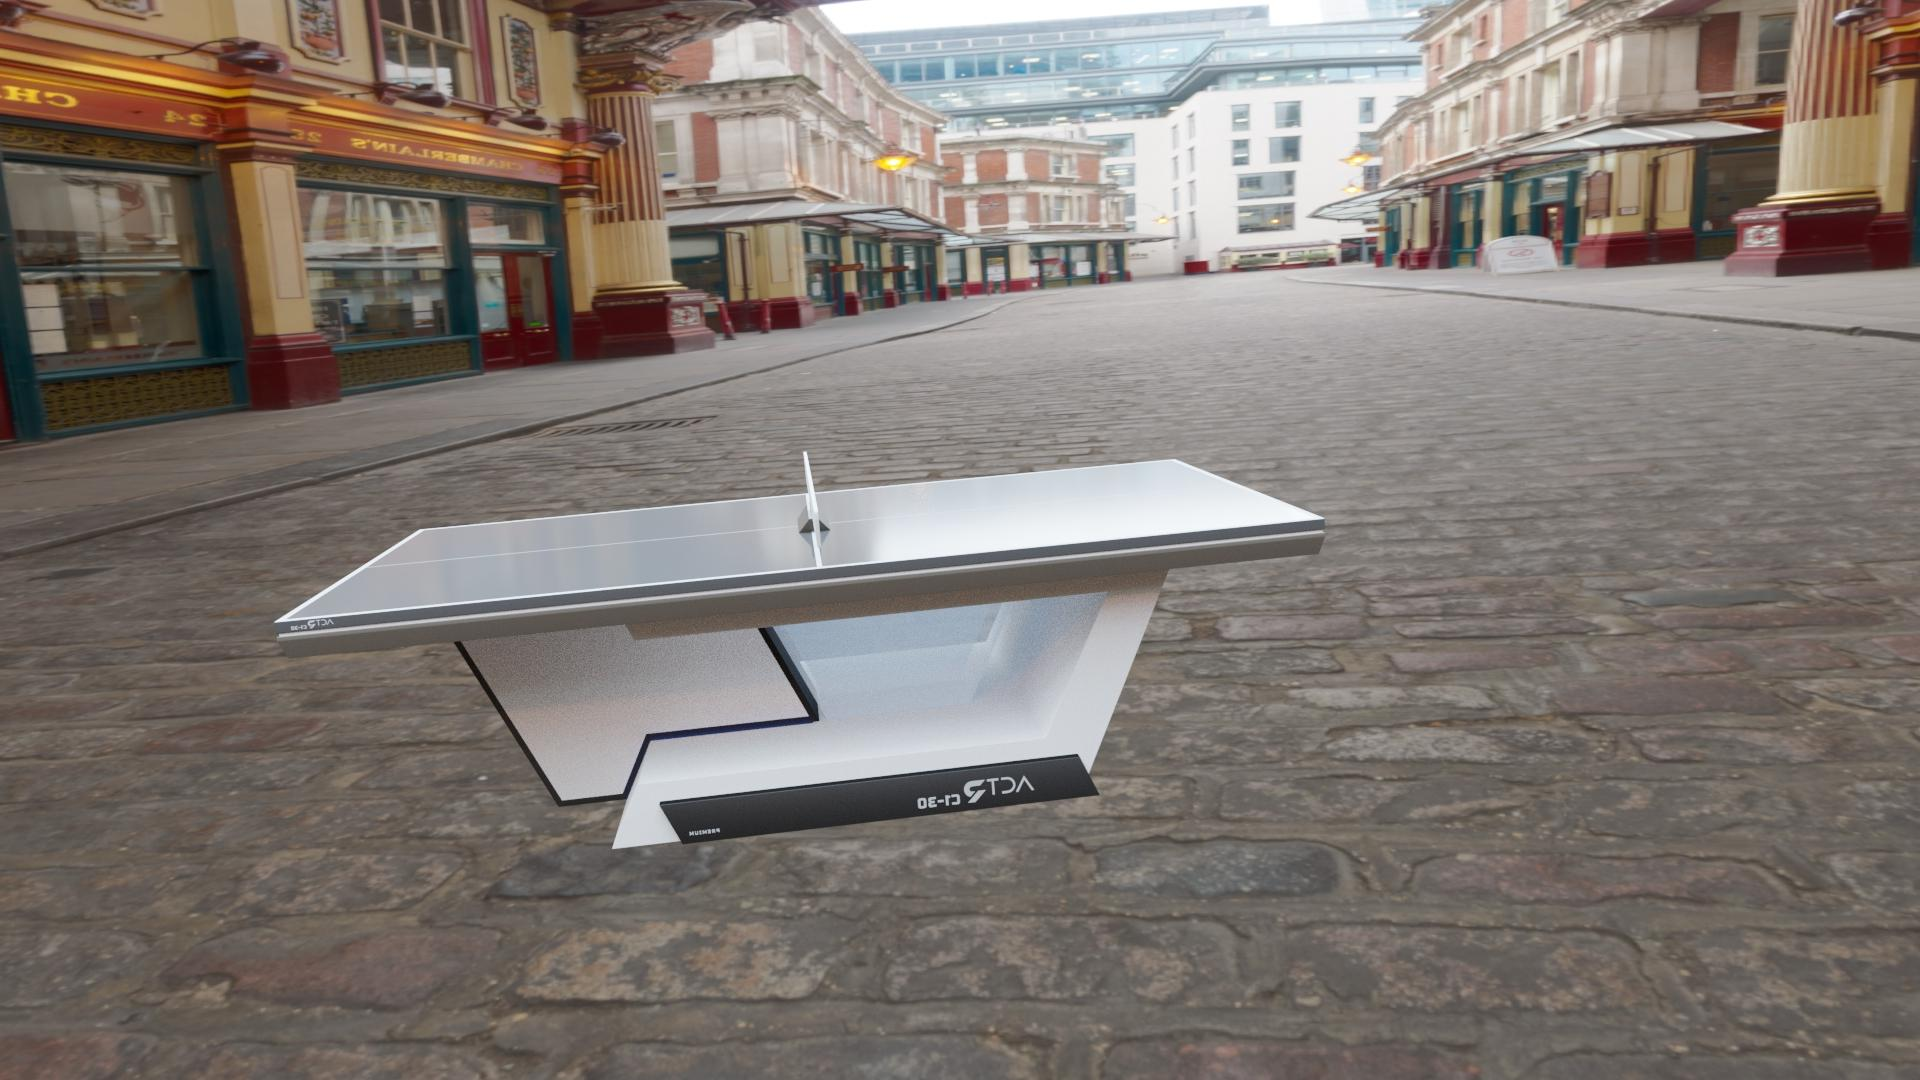table: (285, 460, 1315, 620)
